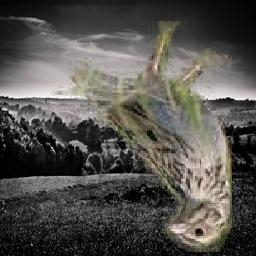Sparrow: (48, 22, 232, 253)
